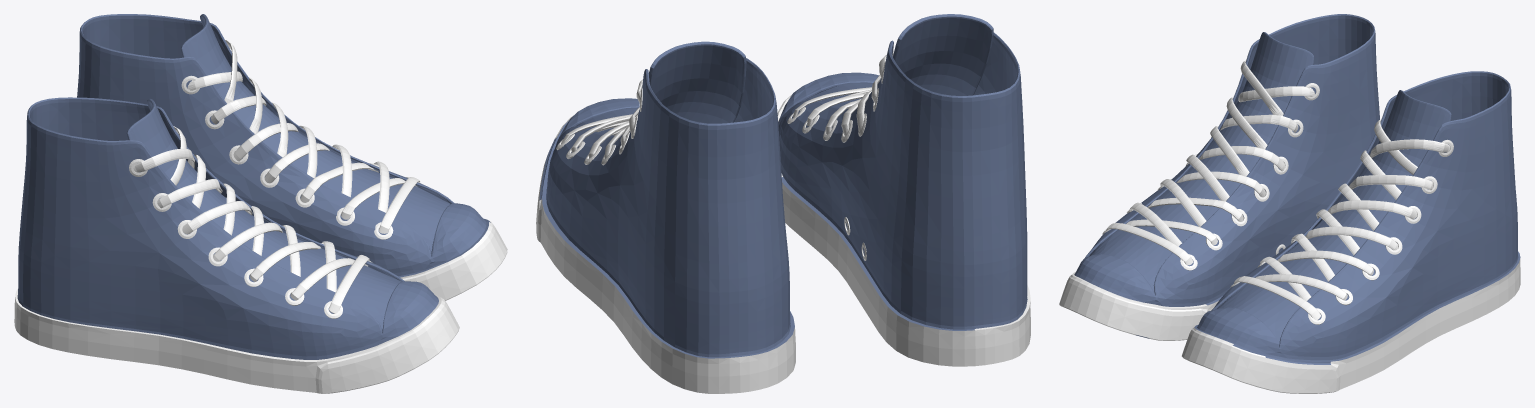
File: sneakers-pe9QRFAg.glb
3 views of the same model, side by side, from view 1: azimuth 30°, elevation 25°; view 2: azimuth 150°, elevation 25°; view 3: azimuth 270°, elevation 25° (orthographic). The views are drawn at different scales.
Parts seen in each view (by area): view 1: Sneakers_rConv_converse1, lConv_Sneakers_converse, Sneakers_rConv_laces1, lConv_Sneakers_laces, lConv_Sneakers_conv_tongue, Sneakers_rConv_conv_tongue1; view 2: lConv_Sneakers_converse, Sneakers_rConv_converse1, Sneakers_rConv_conv_tongue1, lConv_Sneakers_conv_tongue, Sneakers_rConv_laces1, lConv_Sneakers_laces; view 3: lConv_Sneakers_converse, Sneakers_rConv_converse1, Sneakers_rConv_conv_tongue1, lConv_Sneakers_laces, lConv_Sneakers_conv_tongue, Sneakers_rConv_laces1.
Boxes of the visible parts, bbox=[...] form: Sneakers_rConv_converse1: bbox=[14, 97, 459, 393]; lConv_Sneakers_converse: bbox=[77, 14, 507, 300]; Sneakers_rConv_laces1: bbox=[133, 126, 369, 313]; lConv_Sneakers_laces: bbox=[187, 40, 419, 233]; lConv_Sneakers_conv_tongue: bbox=[181, 14, 450, 255]; Sneakers_rConv_conv_tongue1: bbox=[126, 98, 401, 331]; lConv_Sneakers_converse: bbox=[536, 58, 795, 393]; Sneakers_rConv_converse1: bbox=[777, 32, 1030, 366]; Sneakers_rConv_conv_tongue1: bbox=[805, 14, 993, 107]; lConv_Sneakers_conv_tongue: bbox=[577, 41, 746, 133]; Sneakers_rConv_laces1: bbox=[793, 51, 894, 136]; lConv_Sneakers_laces: bbox=[561, 79, 642, 158]; lConv_Sneakers_converse: bbox=[1181, 71, 1520, 393]; Sneakers_rConv_converse1: bbox=[1059, 14, 1379, 340]; Sneakers_rConv_conv_tongue1: bbox=[1090, 32, 1313, 292]; lConv_Sneakers_laces: bbox=[1234, 120, 1450, 320]; lConv_Sneakers_conv_tongue: bbox=[1217, 90, 1451, 344]; Sneakers_rConv_laces1: bbox=[1106, 60, 1314, 265].
Bounding box in the file's own units: 308 × 160 × 308.
